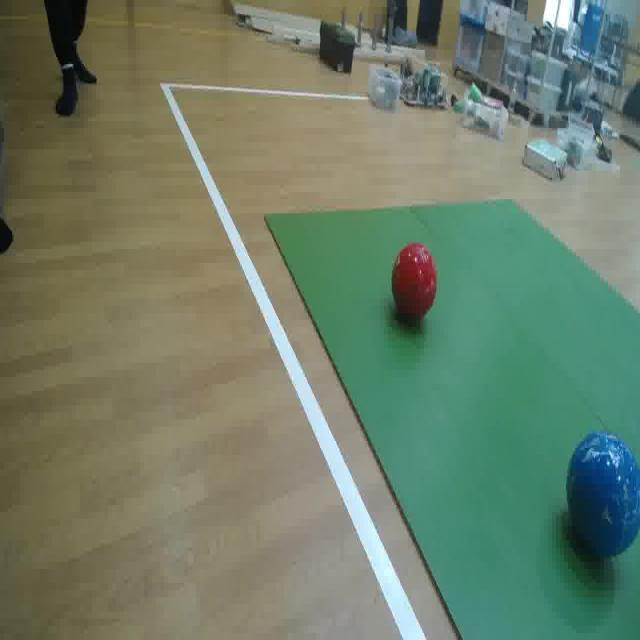blue_ball: (567, 432, 640, 549)
red_ball: (387, 238, 440, 324)
